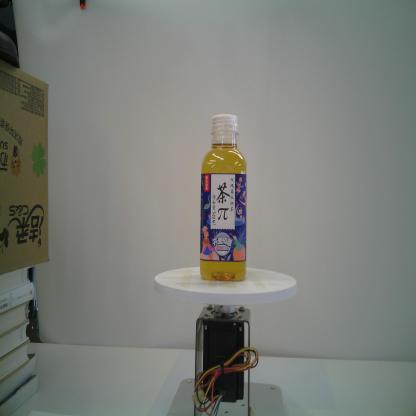Drink: (199, 112, 248, 286)
